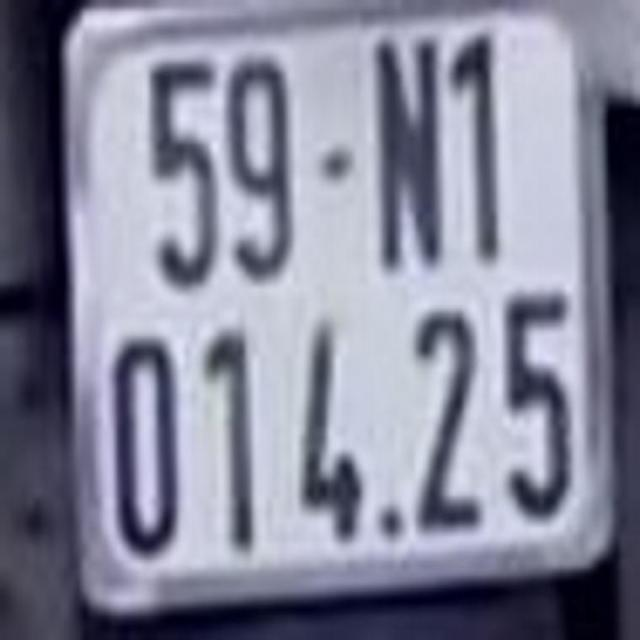0: (108, 328, 184, 554)
1: (194, 322, 257, 553), (450, 25, 502, 265)
2: (406, 306, 488, 532)
4: (295, 308, 364, 542)
5: (496, 284, 574, 524), (141, 54, 219, 284)
9: (225, 46, 295, 284)
N: (366, 28, 446, 276)
